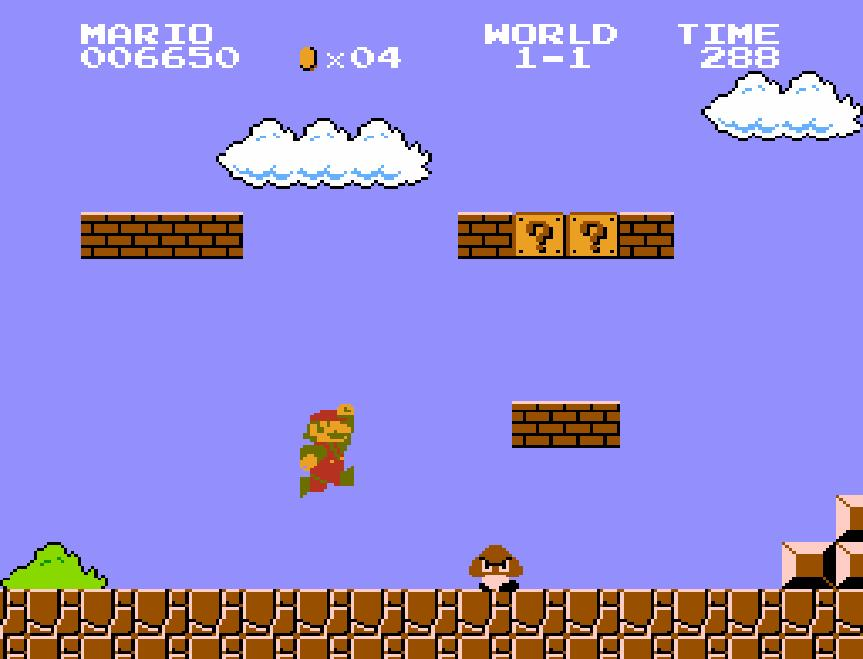big_mario: (298, 402, 356, 500)
